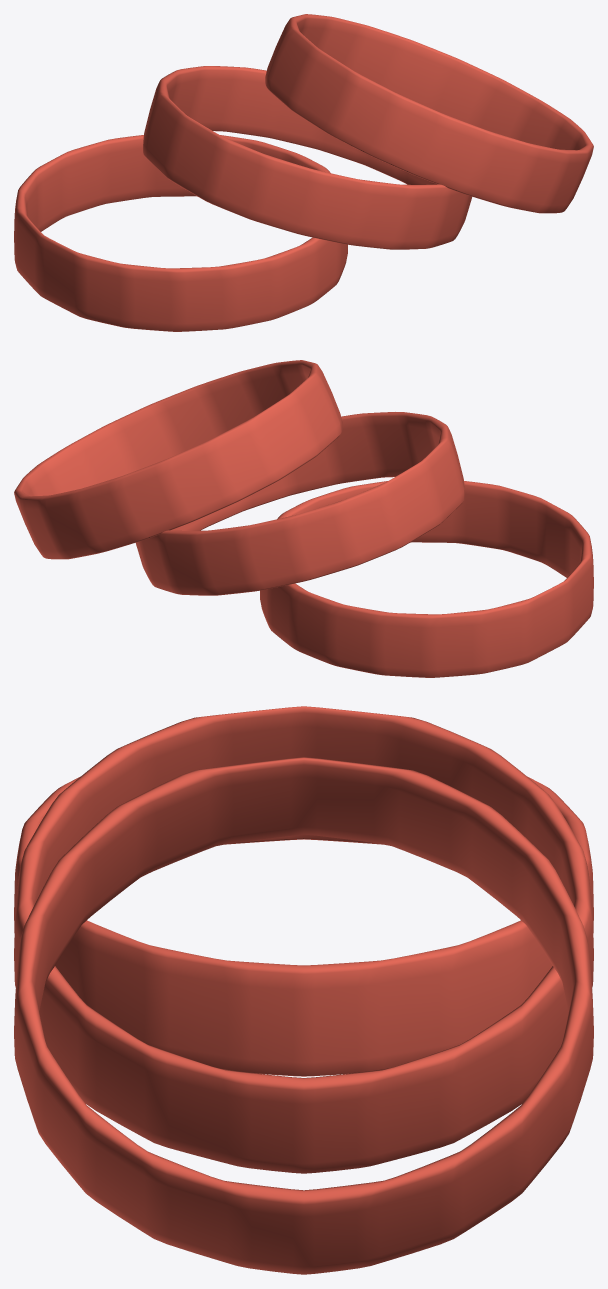
File: wristband.glb
3 views of the same model, one above another, from view 1: azimuth 30°, elevation 25°; view 2: azimuth 150°, elevation 25°; view 3: azimuth 270°, elevation 25° (orthographic). The views are drawn at different scales.
Parts seen in each view (by area): view 1: pCylinder88; view 2: pCylinder88; view 3: pCylinder88.
Boxes of the visible parts, <box> form: pCylinder88: <box>14,14,593,331</box>; pCylinder88: <box>14,360,593,677</box>; pCylinder88: <box>14,706,593,1274</box>.
Size of the model in its own units: 0.0397 by 0.0133 by 0.0216.
